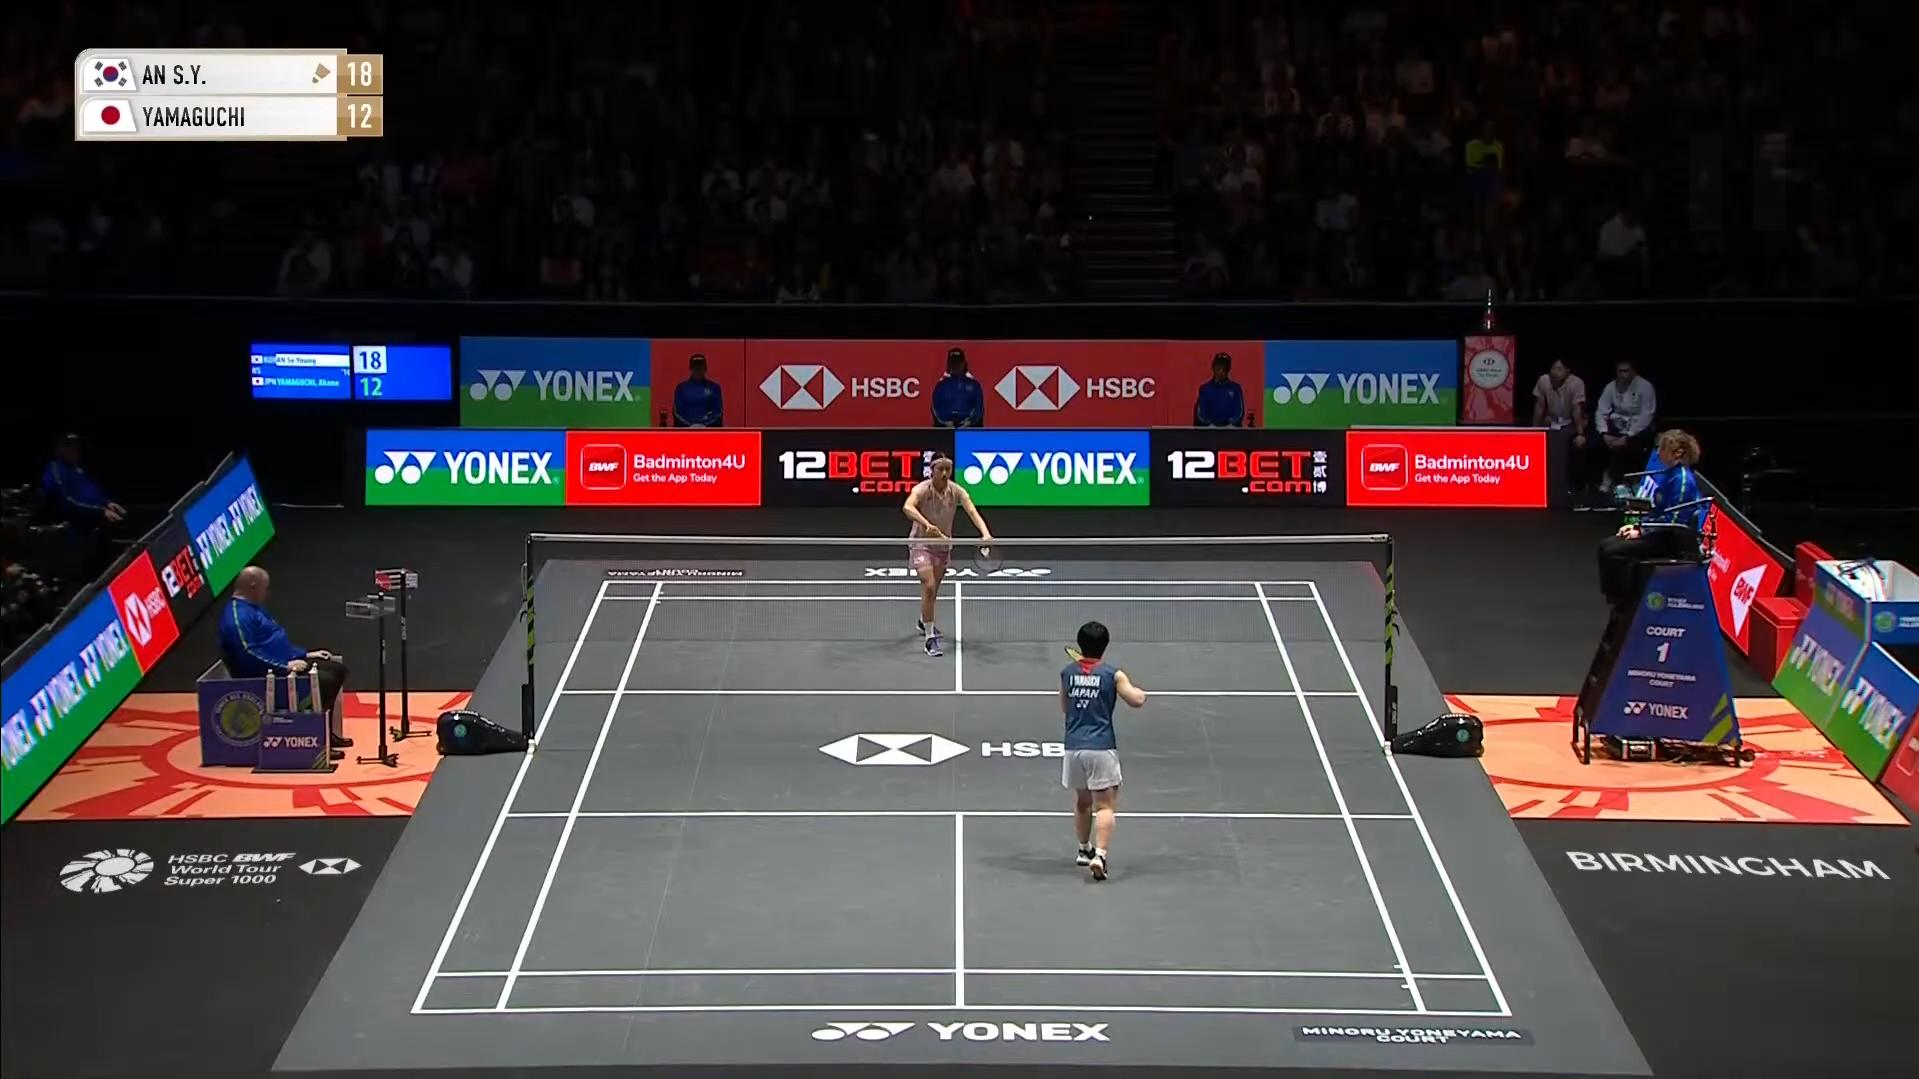shuttle: (977, 544, 1003, 570)
